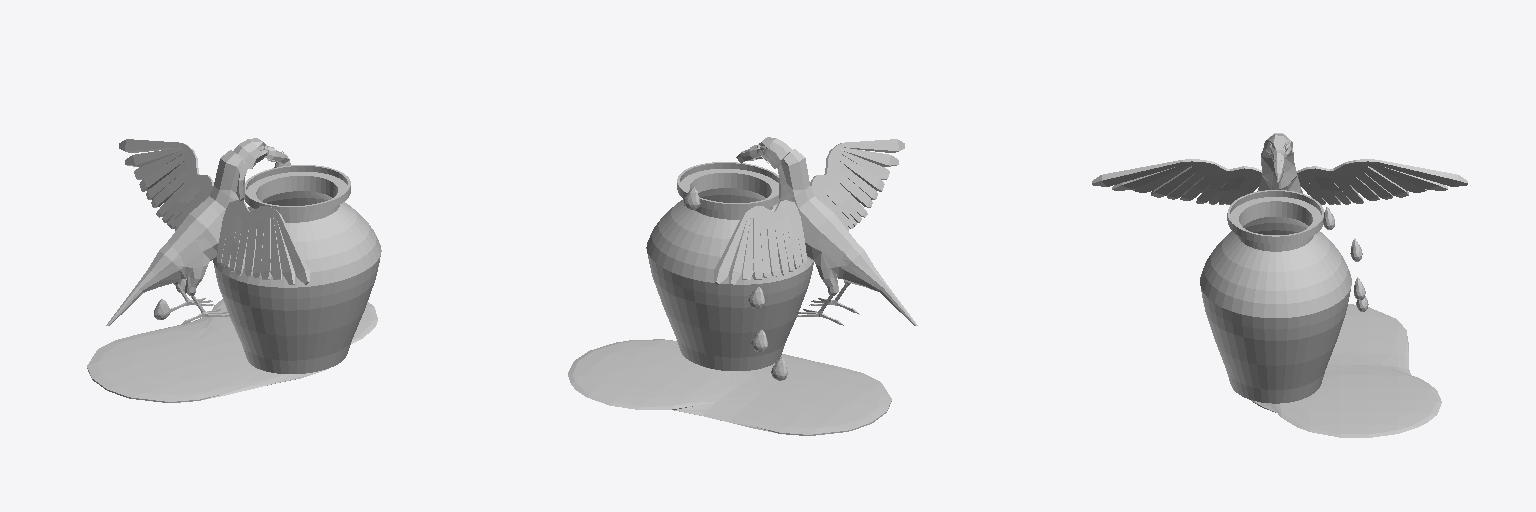
The model's file is bheegahuakaua16.obj.
The picture shows the model from 3 angles: view 1: azimuth 30°, elevation 25°; view 2: azimuth 150°, elevation 25°; view 3: azimuth 270°, elevation 25°; orthographic projection.
Parts seen in each view (by area): view 1: Circle, Cylinder, Mball; view 2: Circle, Mball, Cylinder; view 3: Circle, Mball, Cylinder.
Part boxes in pixels (x1,y1,x2,y2): Circle: (213, 165, 381, 373); Cylinder: (106, 138, 309, 325); Mball: (87, 299, 377, 402); Circle: (646, 162, 813, 370); Mball: (568, 339, 891, 435); Cylinder: (714, 137, 917, 325); Circle: (1200, 190, 1351, 403); Mball: (1251, 304, 1441, 437); Cylinder: (1092, 133, 1467, 204).
Bounding box in the file's own units: 1.18 × 0.884 × 1.28.